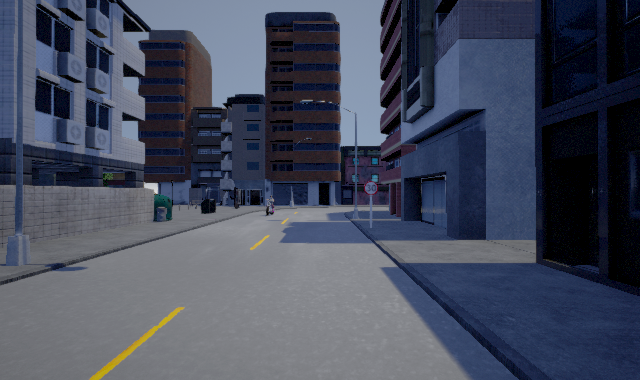motobike: (265, 196, 275, 215)
traffic_sign: (364, 181, 378, 195)
